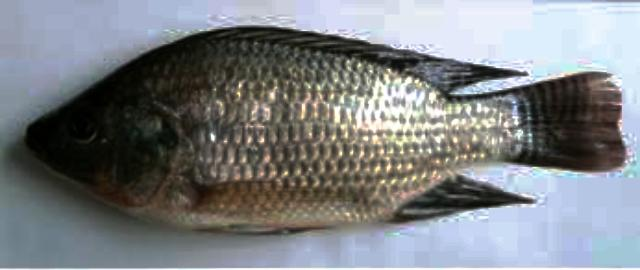Healthy Fish: (26, 26, 627, 235)
